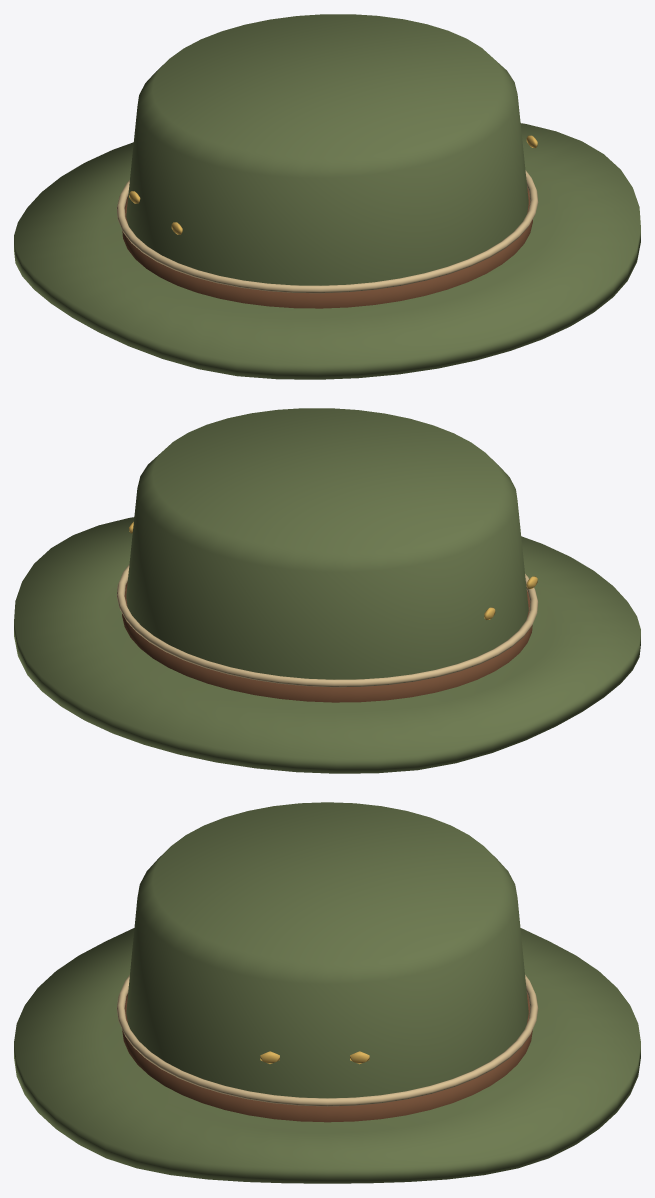
The model's file is 02-trail-boonie.glb.
3 renders of one model, top to bottom at view 1: azimuth 30°, elevation 25°; view 2: azimuth 150°, elevation 25°; view 3: azimuth 270°, elevation 25°, orthographic. The views are drawn at different scales.
Visible parts, largest first — view 1: Hat02_Crown1, Hat02_Brim2, Hat02_Band3, Hat02_Piping8; view 2: Hat02_Crown1, Hat02_Brim2, Hat02_Band3, Hat02_Piping8; view 3: Hat02_Crown1, Hat02_Brim2, Hat02_Band3, Hat02_Piping8.
Boxes of the visible parts, box(x1,y1,x2,y2) form: Hat02_Crown1: box(126, 14, 528, 285); Hat02_Brim2: box(14, 123, 640, 379); Hat02_Band3: box(122, 187, 532, 308); Hat02_Piping8: box(116, 170, 538, 293); Hat02_Crown1: box(126, 408, 528, 679); Hat02_Brim2: box(14, 517, 640, 773); Hat02_Band3: box(122, 581, 532, 702); Hat02_Piping8: box(116, 564, 538, 687); Hat02_Crown1: box(126, 802, 528, 1098); Hat02_Brim2: box(14, 928, 640, 1183); Hat02_Band3: box(122, 993, 532, 1122); Hat02_Piping8: box(116, 975, 538, 1106).
Size of the model in its own units: 0.94 by 0.271 by 0.8742.
